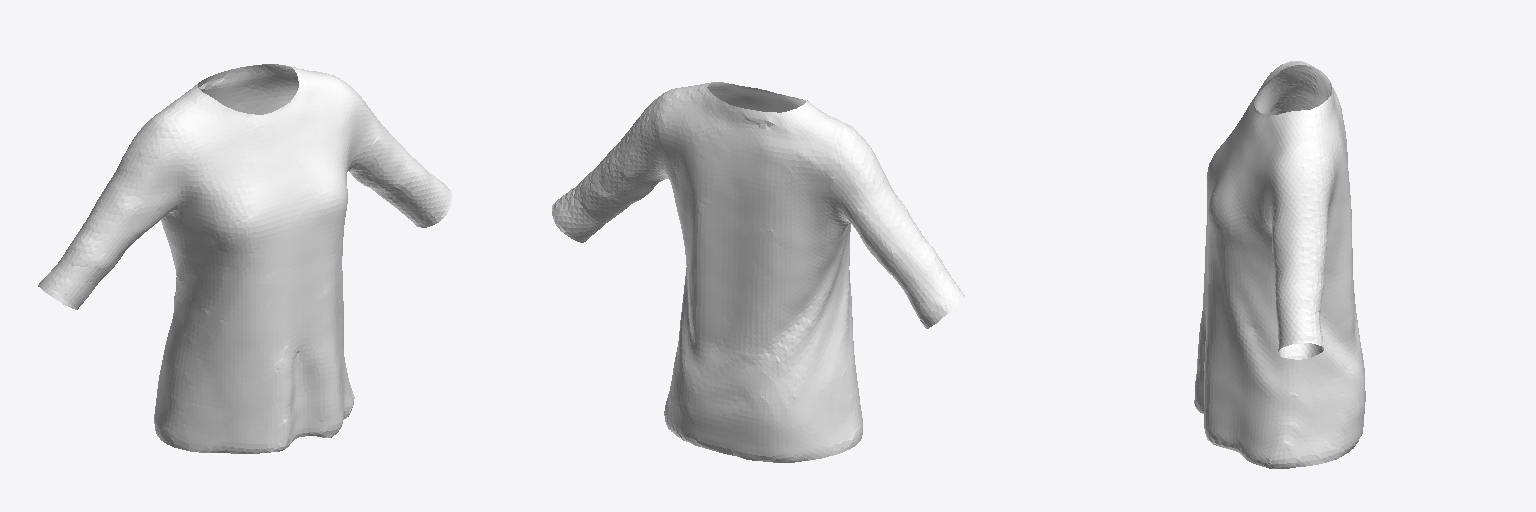
Rendered from [100][Woman][Tops][KT_White_T-Shirt][Edited].obj.
3 views of the same model, side by side, from view 1: azimuth 30°, elevation 25°; view 2: azimuth 150°, elevation 25°; view 3: azimuth 270°, elevation 25° (orthographic).
Size of the model in its own units: 78.44 by 62.59 by 28.7.